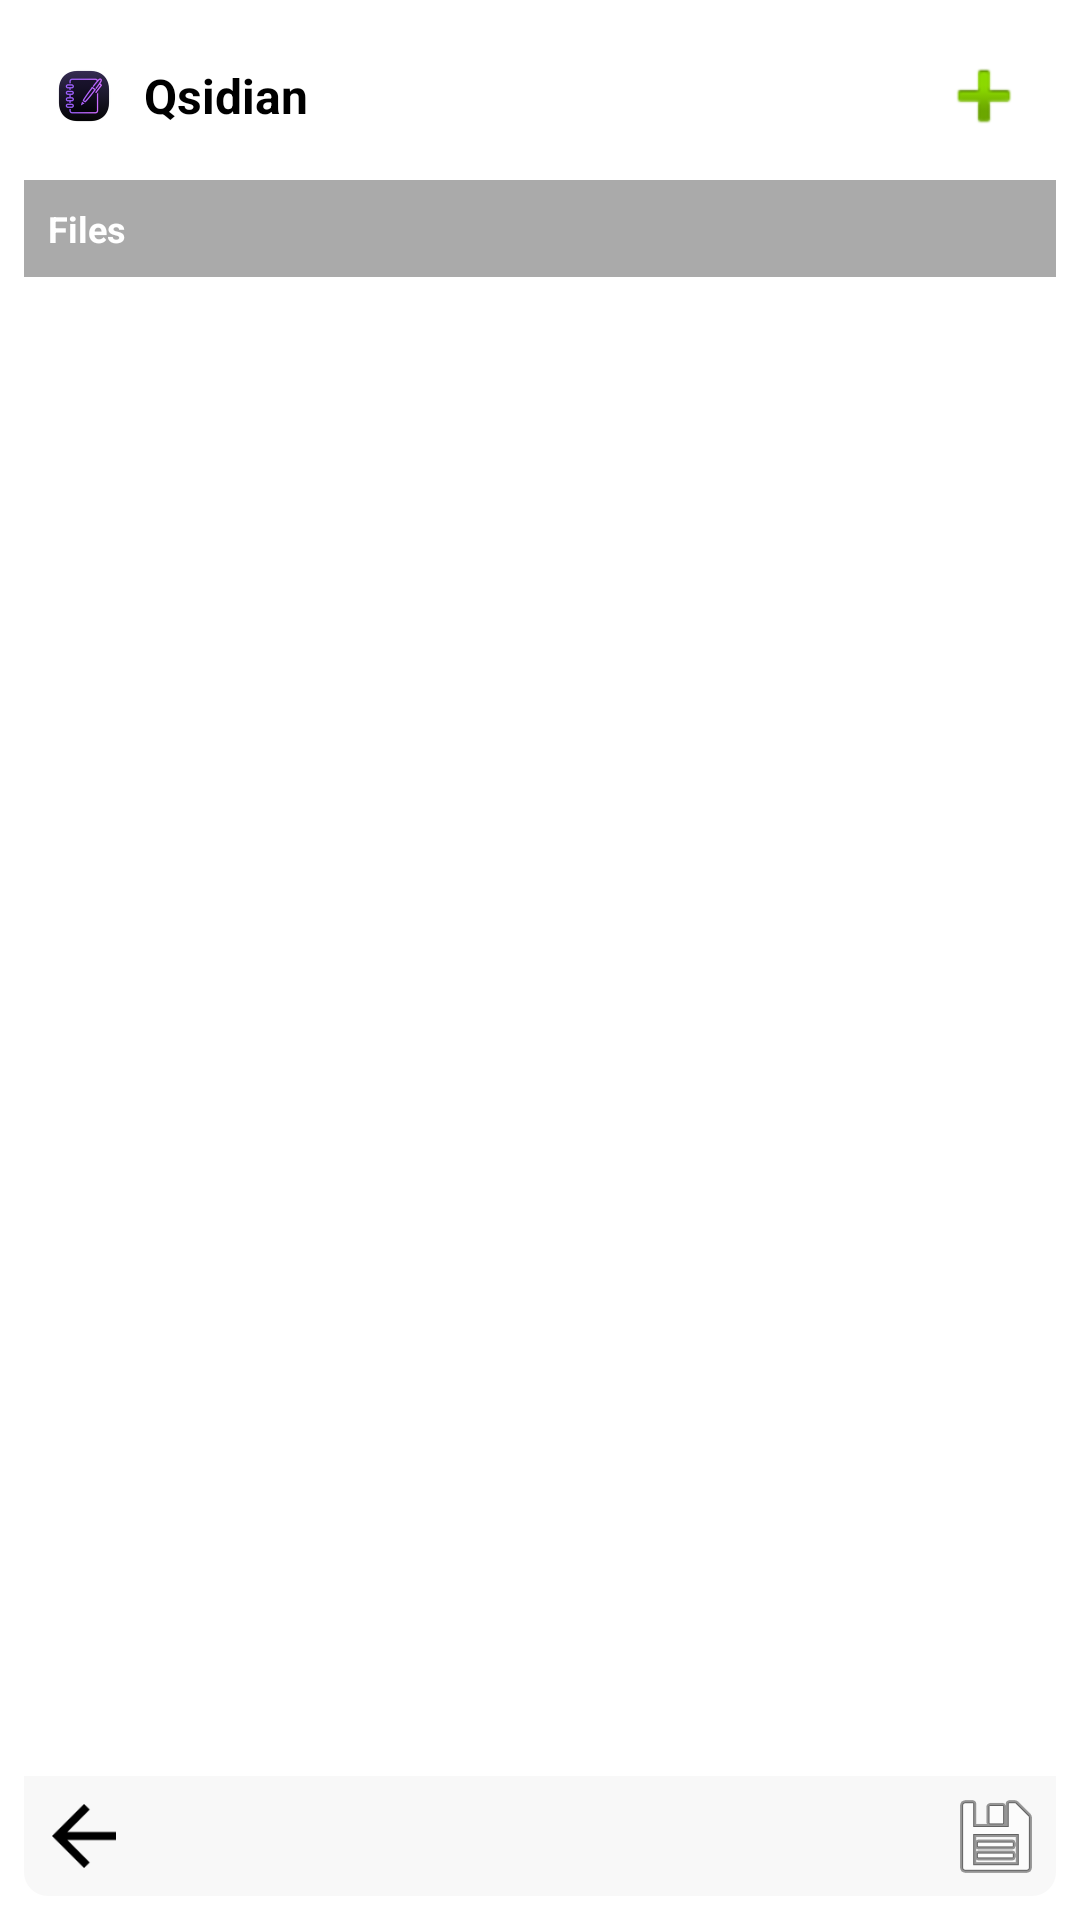

Icons on this 1080w x 1920h Android screen, each with the point to tap as (x=x, y=y):
Back: (x=84, y=1836)
New Note: (x=984, y=96)
Save Note: (x=996, y=1836)
